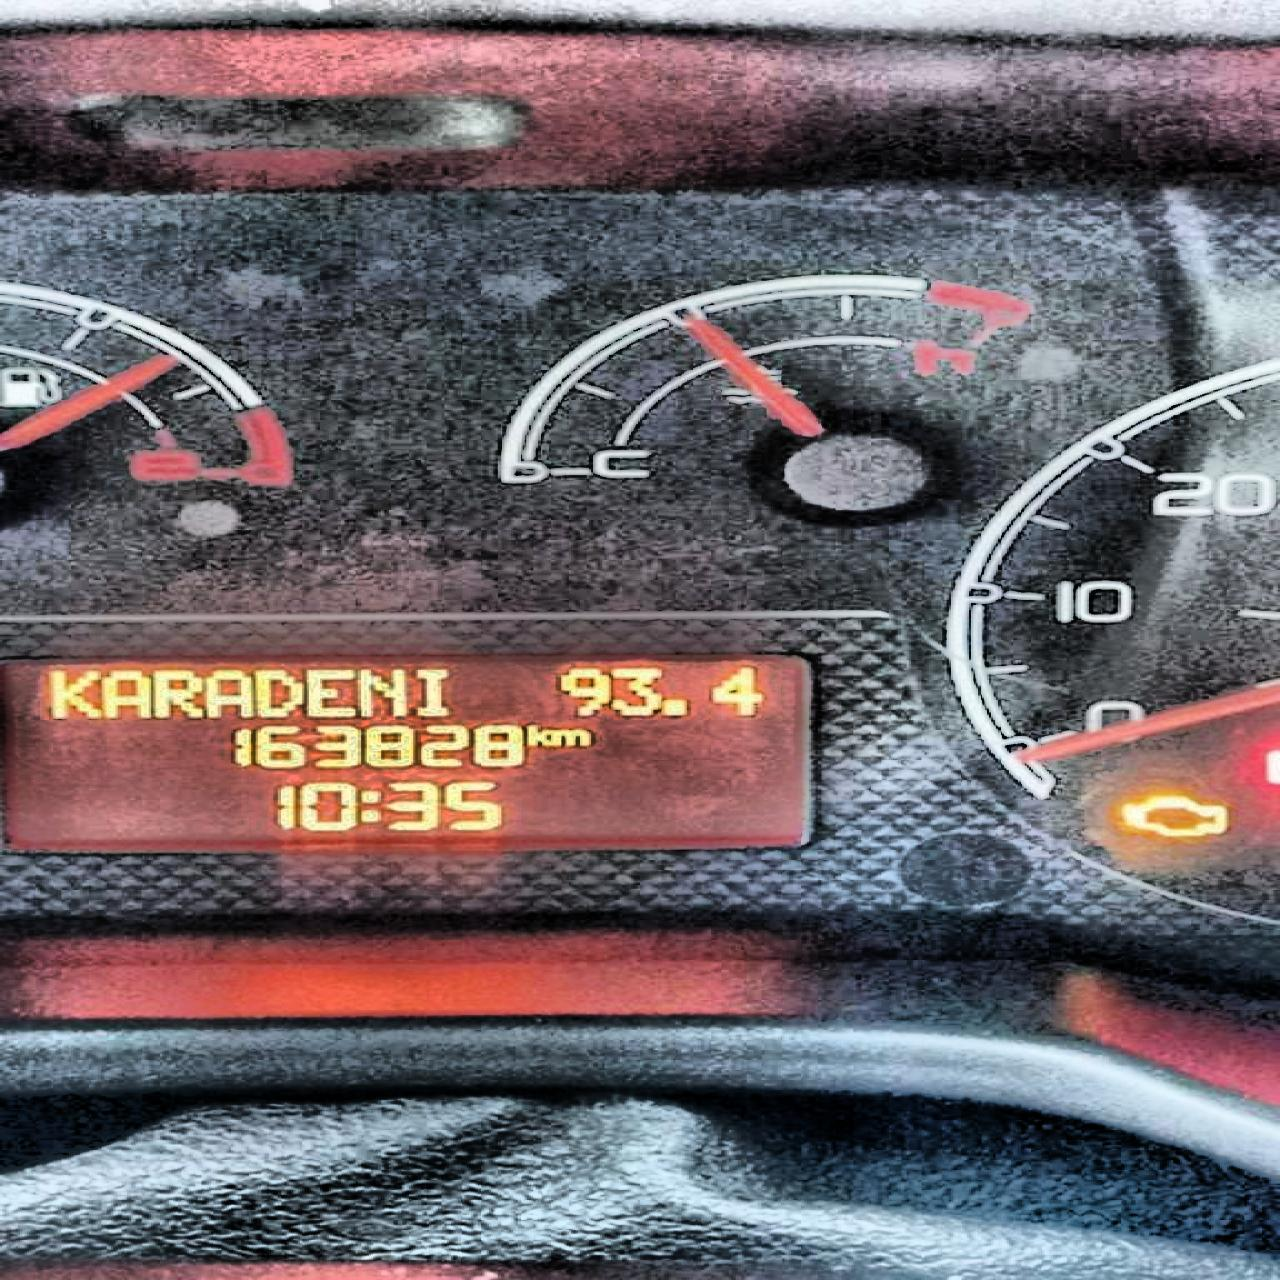-: (660, 694, 692, 719)
0: (298, 779, 353, 831)
1: (271, 779, 295, 832), (227, 727, 248, 771)
2: (415, 722, 469, 767)
3: (610, 662, 660, 720), (384, 776, 436, 831), (312, 723, 358, 769)
4: (707, 667, 774, 722)
5: (442, 778, 498, 833)
6: (251, 724, 302, 770)
8: (362, 723, 416, 769), (471, 722, 522, 768)
9: (558, 665, 610, 717)
X: (45, 666, 100, 720), (300, 666, 355, 719), (100, 665, 151, 720), (151, 665, 202, 719), (355, 667, 407, 717), (251, 667, 300, 717), (203, 666, 247, 720), (409, 667, 454, 717), (355, 785, 380, 826), (549, 727, 591, 748), (523, 721, 546, 750)
odometer: (0, 647, 824, 850)
